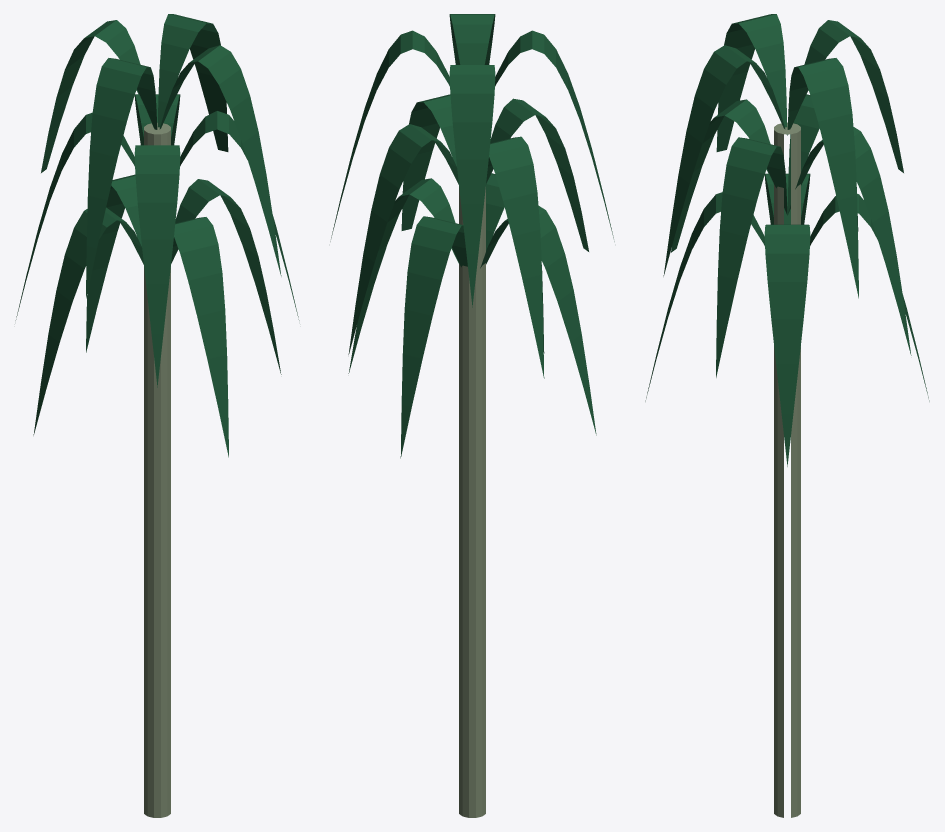
File: fan-tree.glb
3 renders of one model, left to right at view 1: azimuth 30°, elevation 25°; view 2: azimuth 150°, elevation 25°; view 3: azimuth 270°, elevation 25°, orthographic.
Bounding box in the file's own units: 1.96 × 5.82 × 1.96.
